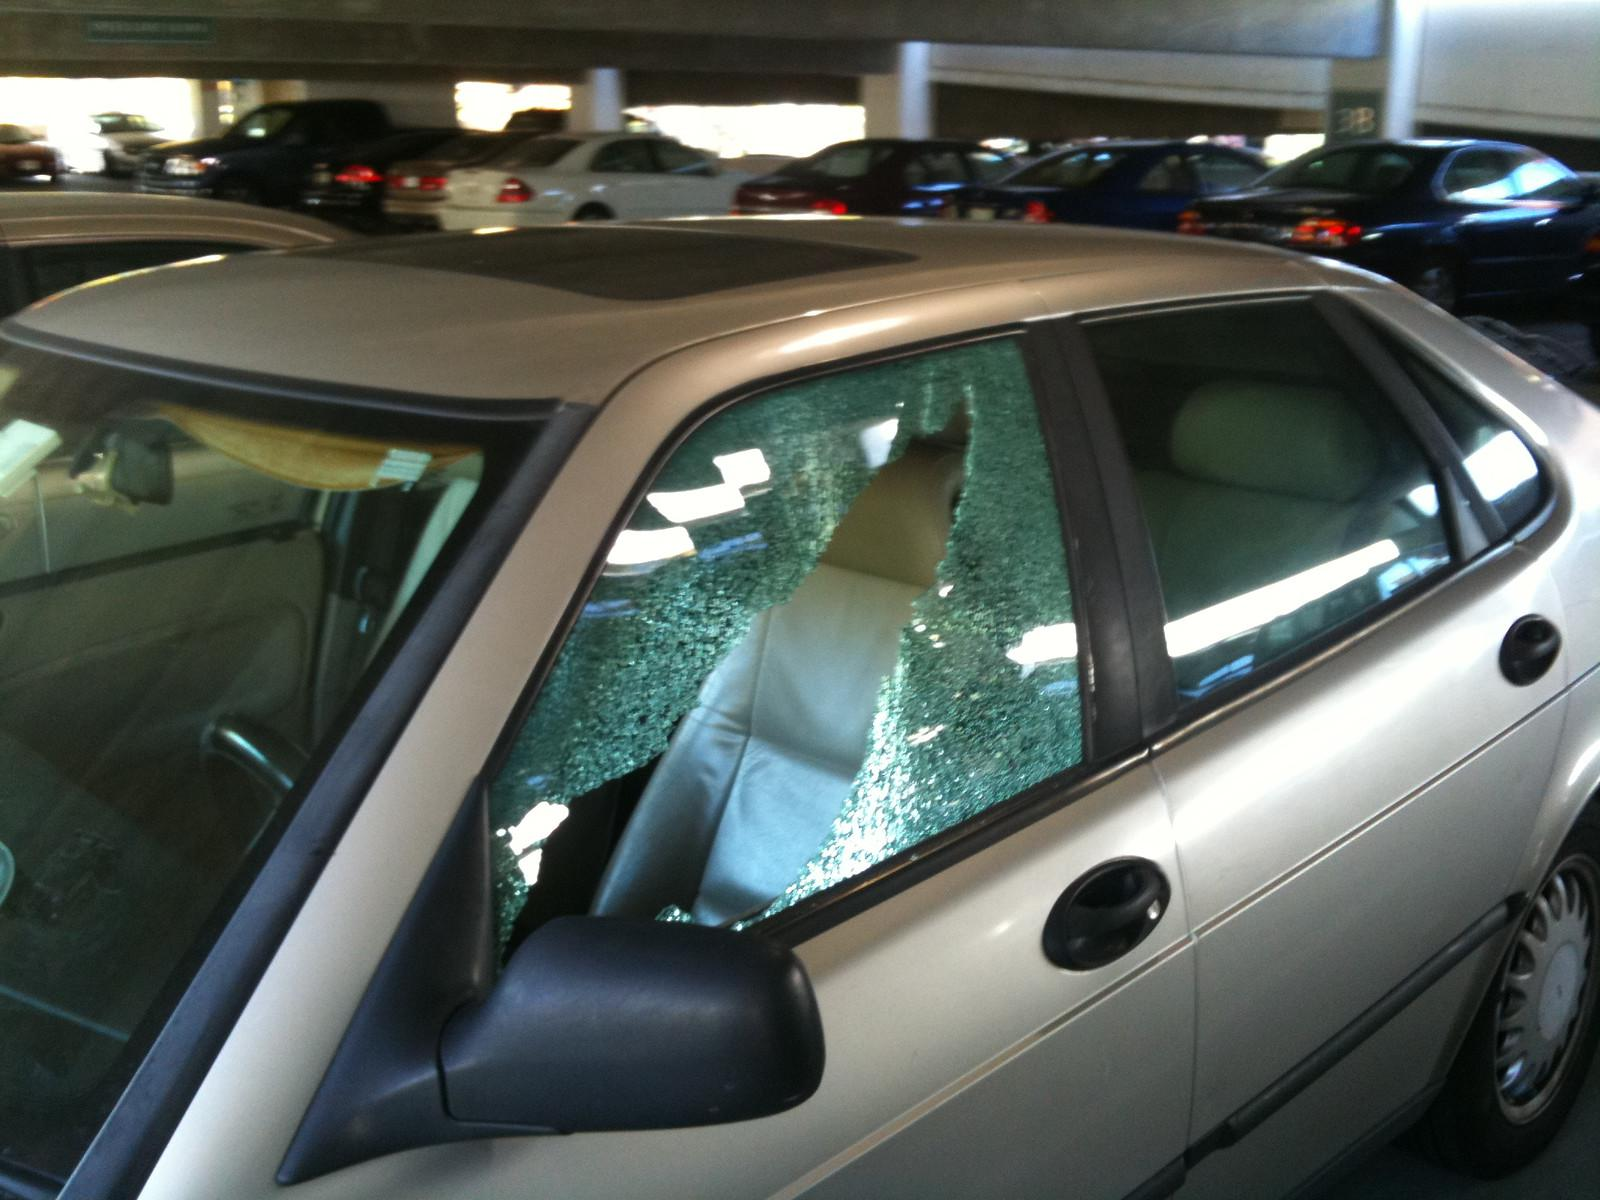doorouter-dent: (548, 430, 1128, 1090)
